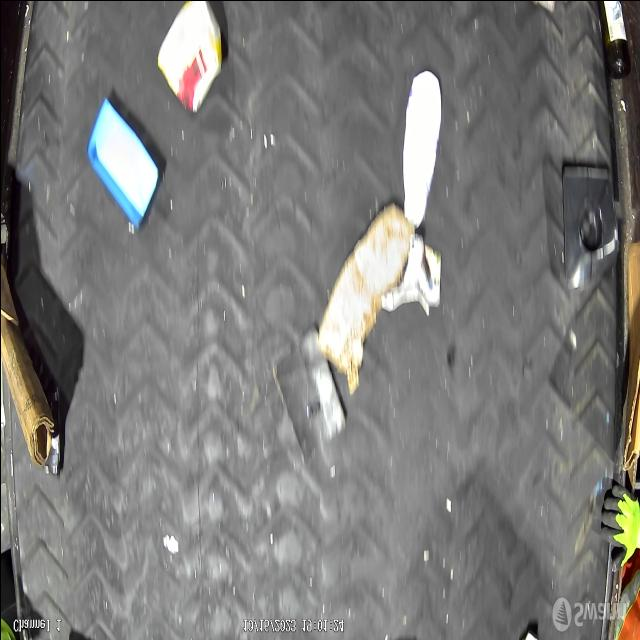can: (156, 0, 223, 112)
